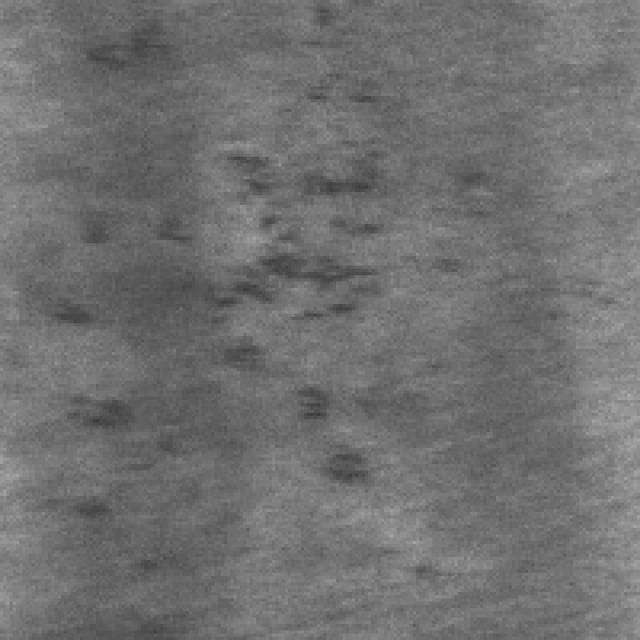rolled-in_scale: (180, 112, 406, 490), (45, 202, 189, 528)
